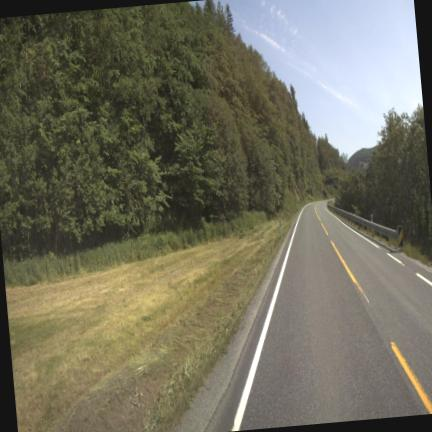Road: (205, 202, 431, 431)
